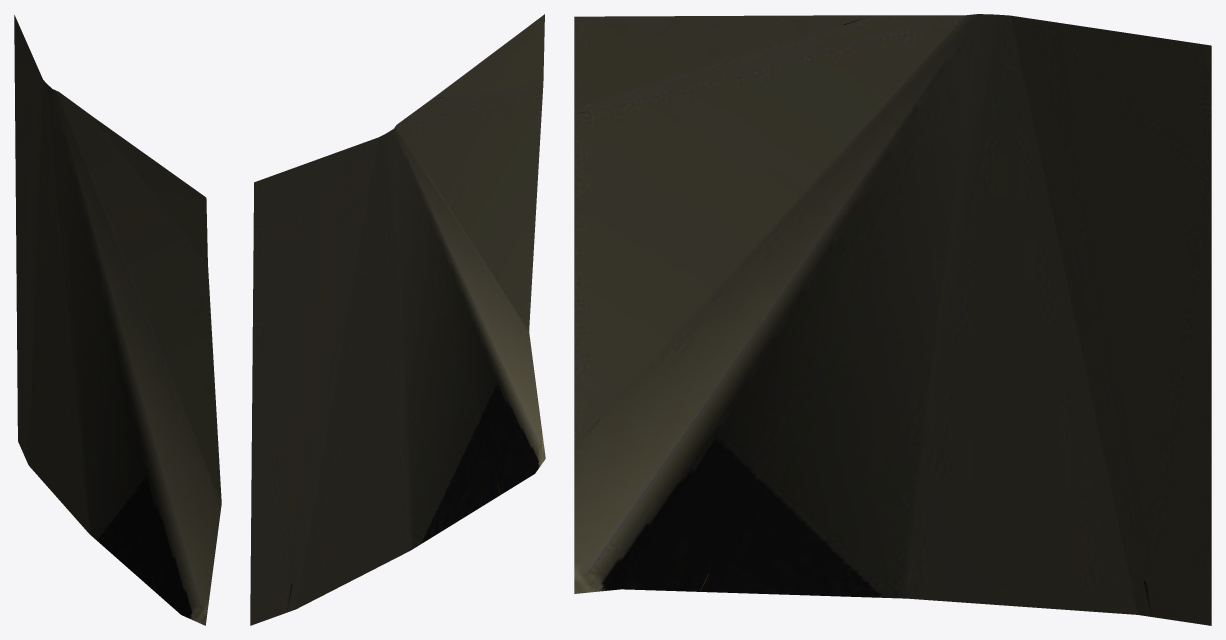
3 renders of one model, left to right at view 1: azimuth 30°, elevation 25°; view 2: azimuth 150°, elevation 25°; view 3: azimuth 270°, elevation 25°, orthographic. The views are drawn at different scales.
Size of the model in its own units: 0.4007 by 2.95 by 2.95.
Materials: 2 (2 with a texture image).
